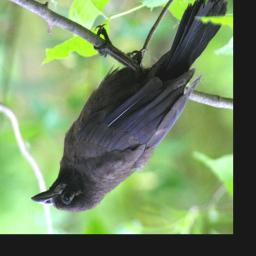Crow: (31, 0, 230, 214)
